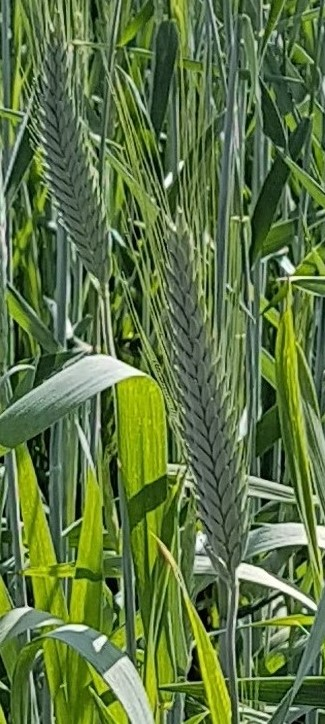Healthy Wheat: (157, 229, 261, 565)
